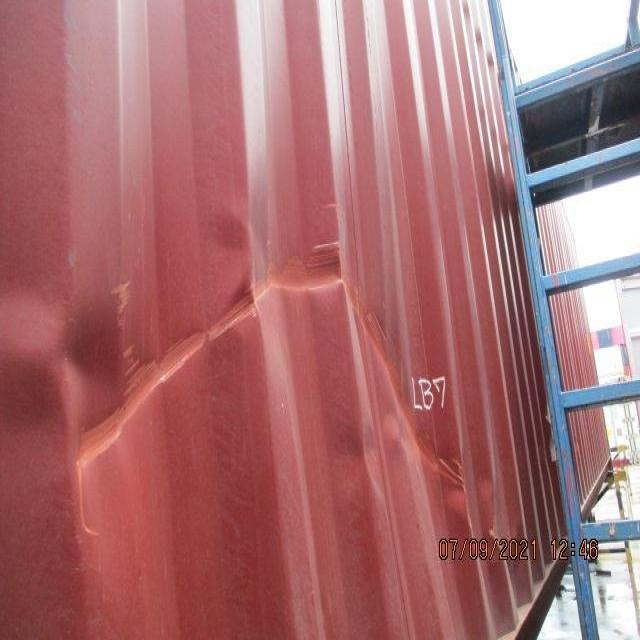Dent: (0, 179, 534, 584)
